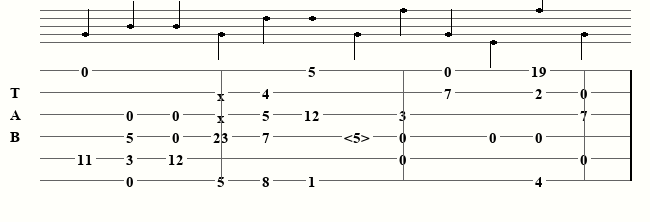0: (81, 63, 93, 77), (126, 173, 138, 187), (126, 107, 138, 121), (172, 129, 184, 143), (172, 107, 184, 121), (399, 129, 411, 143), (399, 151, 411, 165), (444, 63, 456, 77), (489, 129, 501, 143), (535, 129, 547, 143), (580, 151, 592, 165), (580, 85, 592, 99)
1: (308, 173, 320, 187)
11: (77, 151, 97, 165)
12: (168, 151, 188, 165), (304, 107, 324, 121)
19: (531, 63, 551, 77)
2: (535, 85, 547, 99)
23: (213, 129, 233, 143)
3: (126, 151, 138, 165), (399, 107, 411, 121)
4: (262, 85, 274, 99), (535, 173, 547, 187)
5: (126, 129, 138, 143), (217, 173, 229, 187), (262, 107, 274, 121), (308, 63, 320, 77)
7: (262, 129, 274, 143), (444, 85, 456, 99), (580, 107, 592, 121)
8: (262, 173, 274, 187)
harmonic: (344, 129, 374, 143)
x: (217, 109, 229, 120), (217, 87, 229, 98)
